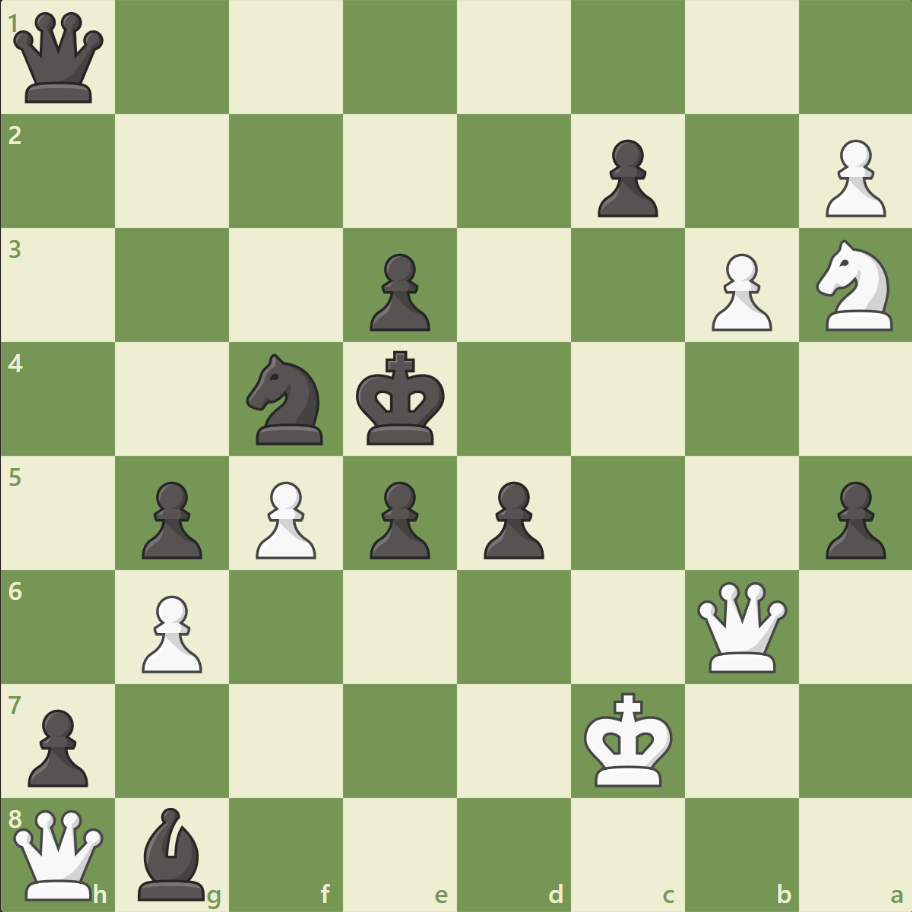K: (579, 685, 679, 793)
N: (806, 234, 903, 337)
P: (133, 586, 208, 677), (247, 473, 322, 564), (701, 246, 776, 337), (815, 132, 889, 223)
Q: (691, 576, 790, 676), (10, 804, 109, 903)
b: (131, 801, 215, 904)
k: (351, 344, 451, 452)
n: (238, 348, 335, 450)
p: (20, 700, 95, 791), (474, 473, 549, 564), (133, 473, 208, 564), (815, 473, 889, 564), (361, 473, 435, 564), (361, 246, 435, 337), (588, 132, 662, 223)
q: (10, 9, 109, 108)
